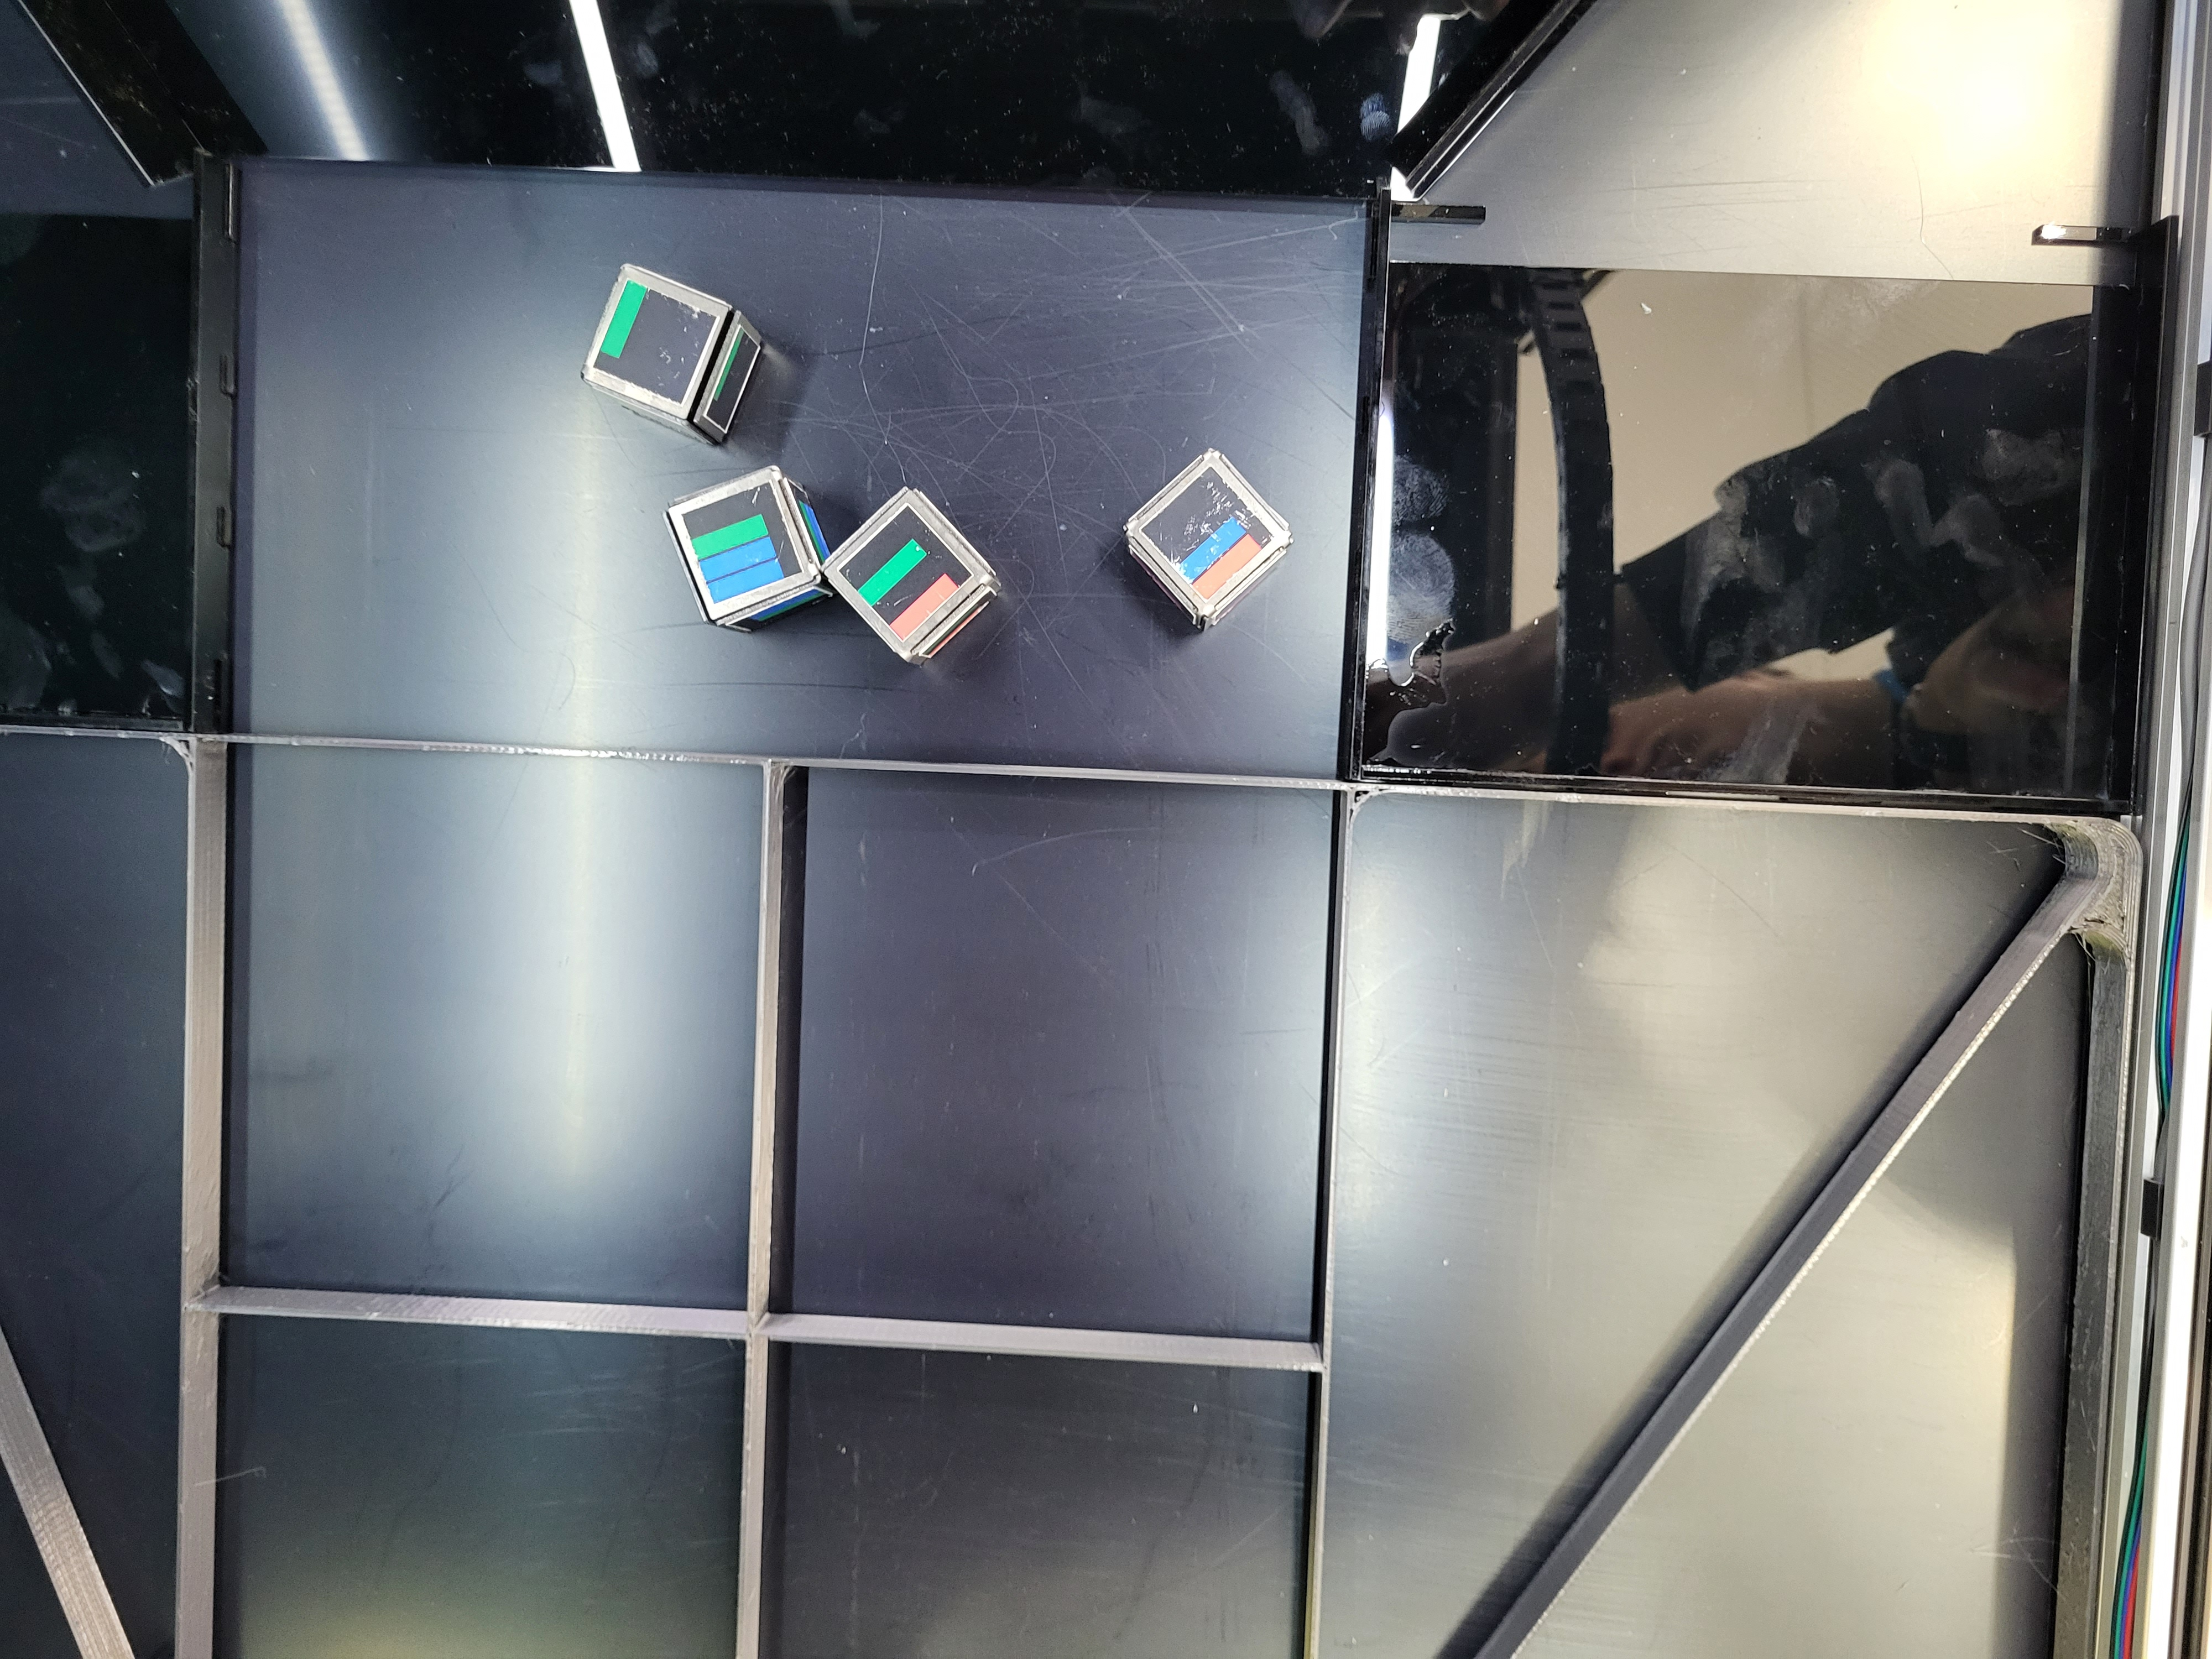Cube: (824, 467, 1015, 685), (1113, 427, 1298, 638), (563, 246, 752, 430), (657, 453, 831, 652)
